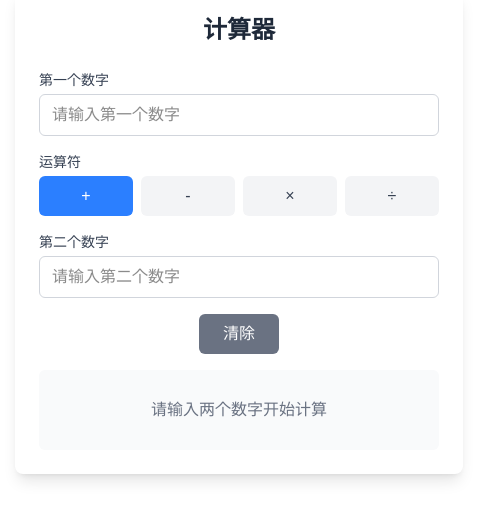
Test: Calculator Component › 应该能够实时执行减法运算
The image size is (479, 520).
Type "5" into the number field with placeholder "请输入第一个数字" at (239, 115), box [39, 94, 439, 136]
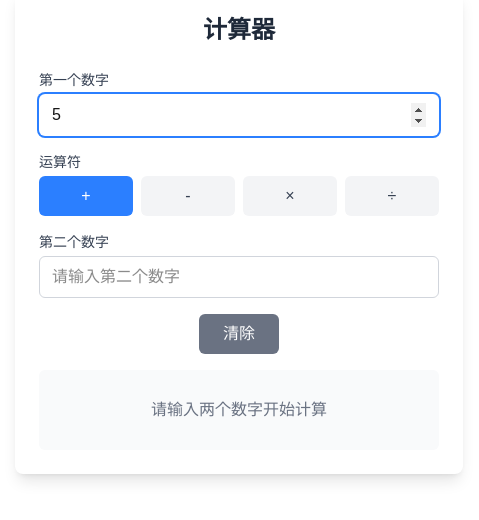
Click the button "-" at (188, 196), box [141, 176, 235, 216]
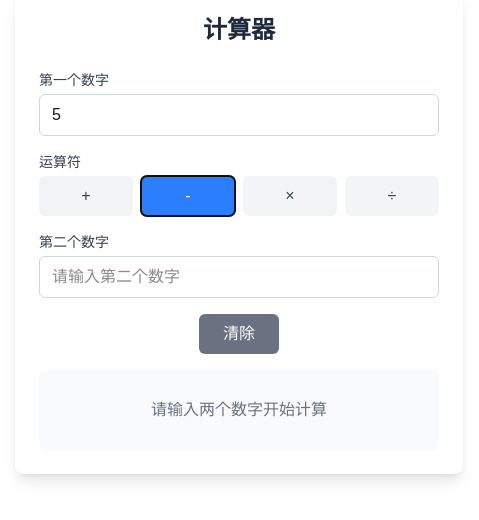
Type "3" into the number field with placeholder "请输入第二个数字" at (239, 277), box [39, 256, 439, 298]
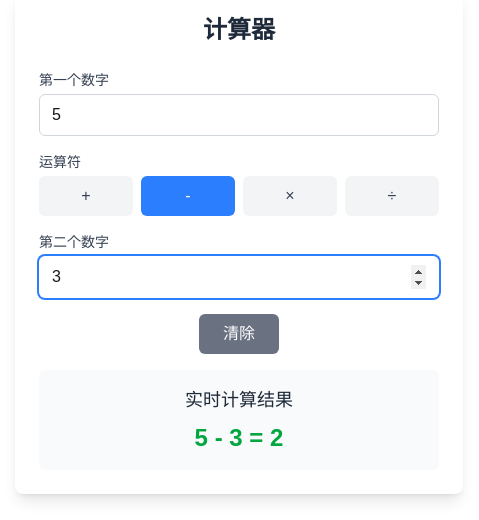
expect the text "5 - 3 = 2" is shown: met, box [195, 424, 283, 451]
